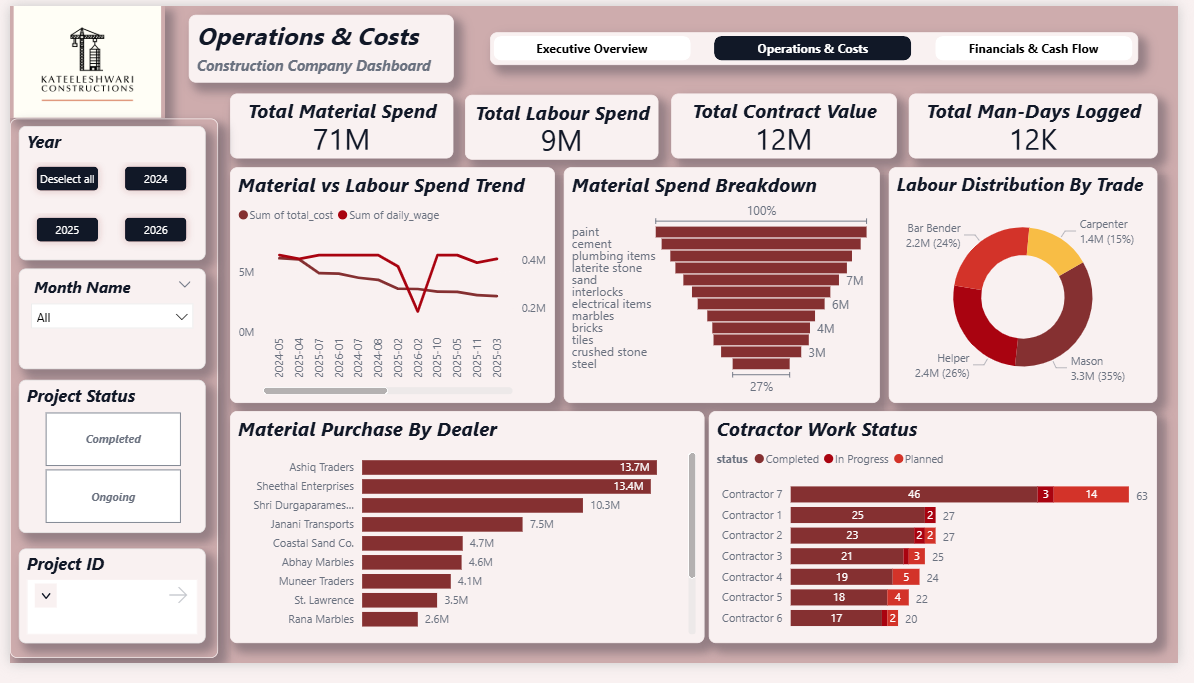

What the dashboard file says about the page in this screenshot:
{"tool":"powerbi","page":{"name":"Operations & Costs","canvas":[1280,720],"ordinal":1},"visuals":[{"type":"image","box":[0,0,169.6,122.8],"z":0},{"type":"textbox","title":"Operations & Costs","box":[195.4,9.7,290.8,74.8],"z":1000},{"type":"card","title":"Total Material Spend","fields":{"Values":["Sum(material_purchase.total_cost)"]},"box":[241.3,96.5,244.9,71.2],"z":3000},{"type":"pageNavigator","box":[526.3,29.2,710.4,35.8],"z":4000},{"type":"card","title":"Total Labour Spend","fields":{"Values":["Sum(daily_labour.daily_wage)"]},"box":[499.1,97.7,212.3,71.2],"z":4000},{"type":"shape","box":[0,123.1,228,591.2],"z":4000},{"type":"card","title":"Total Contract Value","fields":{"Values":["Sum(contract_work.contract_amount)"]},"box":[724.3,96.5,247.3,71.2],"z":5000},{"type":"card","title":"Total Man-Days Logged","fields":{"Values":["Count(daily_labour.labour_entry_id)"]},"box":[984.5,96.5,272.7,71.2],"z":6000},{"type":"lineChart","title":" Material vs Labour Spend Trend","fields":{"Category":["CalendarTable.Year-Month"],"Y":["Sum(material_purchase.total_cost)"],"Y2":["Sum(daily_labour.daily_wage)"]},"box":[241.3,177.3,355.9,258.2],"z":8000},{"type":"funnel","title":"Material Spend Breakdown","fields":{"Category":["material_purchase.material_name"],"Y":["Sum(material_purchase.total_cost)"]},"box":[606.9,177.3,346.1,258],"z":9000},{"type":"advancedSlicerVisual","fields":{"Values":["CalendarTable.Year"]},"box":[9.8,132.1,205.1,146.8],"z":10000},{"type":"donutChart","title":"Labour Distribution By Trade","fields":{"Y":["Sum(daily_labour.daily_wage)"],"Category":["daily_labour.work_type"]},"box":[962.7,177.3,294.4,258.2],"z":10000},{"type":"slicer","fields":{"Values":["CalendarTable.Month Name"]},"box":[9.8,287.8,205.1,110.1],"z":11000},{"type":"clusteredBarChart","title":"Material Purchase By Dealer","fields":{"Category":["material_purchase.dealer_name"],"Y":["Sum(material_purchase.total_cost)"]},"box":[240.9,443.9,519.7,254.3],"z":11000},{"type":"slicer","title":"Project Status","fields":{"Values":["projects.project_status"]},"box":[9.8,409.3,205.1,168.4],"z":12000},{"type":"barChart","title":"Cotractor Work Status","fields":{"Category":["contract_work.contractor_name"],"Y":["CountNonNull(contract_work.contract_work_id)"],"Series":["contract_work.status"]},"box":[765.5,443.9,491.6,254.3],"z":12000},{"type":"textSlicer","title":"Project ID","fields":{"Values":["projects.project_id"]},"box":[9.8,594.1,205.1,103.8],"z":13000}]}

Visuals, with their boxes in screenshot pixels (x1, y1, x2, y2), scaled from the page's 1280x720 canvas onto the 1194x683 screenshot:
image: (x1=0, y1=0, x2=158, y2=116)
"Operations & Costs" textbox: (x1=182, y1=9, x2=454, y2=80)
"Total Material Spend" card: (x1=225, y1=92, x2=454, y2=159)
pageNavigator: (x1=491, y1=28, x2=1154, y2=62)
"Total Labour Spend" card: (x1=466, y1=93, x2=664, y2=160)
shape: (x1=0, y1=117, x2=213, y2=678)
"Total Contract Value" card: (x1=676, y1=92, x2=906, y2=159)
"Total Man-Days Logged" card: (x1=918, y1=92, x2=1173, y2=159)
" Material vs Labour Spend Trend" lineChart: (x1=225, y1=168, x2=557, y2=413)
"Material Spend Breakdown" funnel: (x1=566, y1=168, x2=889, y2=413)
advancedSlicerVisual - CalendarTable.Year: (x1=9, y1=125, x2=200, y2=265)
"Labour Distribution By Trade" donutChart: (x1=898, y1=168, x2=1173, y2=413)
slicer - CalendarTable.Month Name: (x1=9, y1=273, x2=200, y2=377)
"Material Purchase By Dealer" clusteredBarChart: (x1=225, y1=421, x2=709, y2=662)
"Project Status" slicer: (x1=9, y1=388, x2=200, y2=548)
"Cotractor Work Status" barChart: (x1=714, y1=421, x2=1173, y2=662)
"Project ID" textSlicer: (x1=9, y1=564, x2=200, y2=662)
